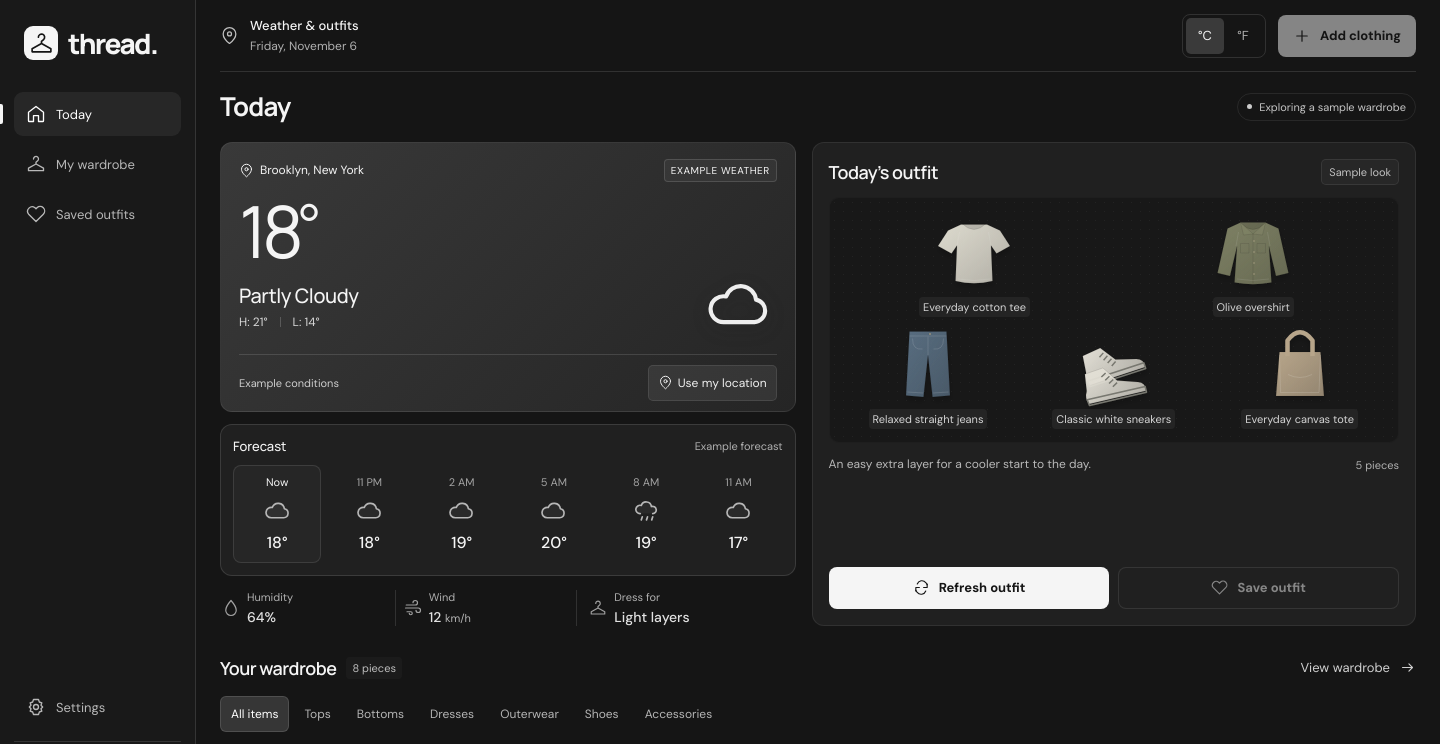
shows explicit samples, keeps navigation usable, and filters wardrobe categories
Expected: the text "Exploring a sample wardrobe" is shown, [1237,93,1416,121]
Click the button "My wardrobe" at (98, 164), box [14,142,181,186]
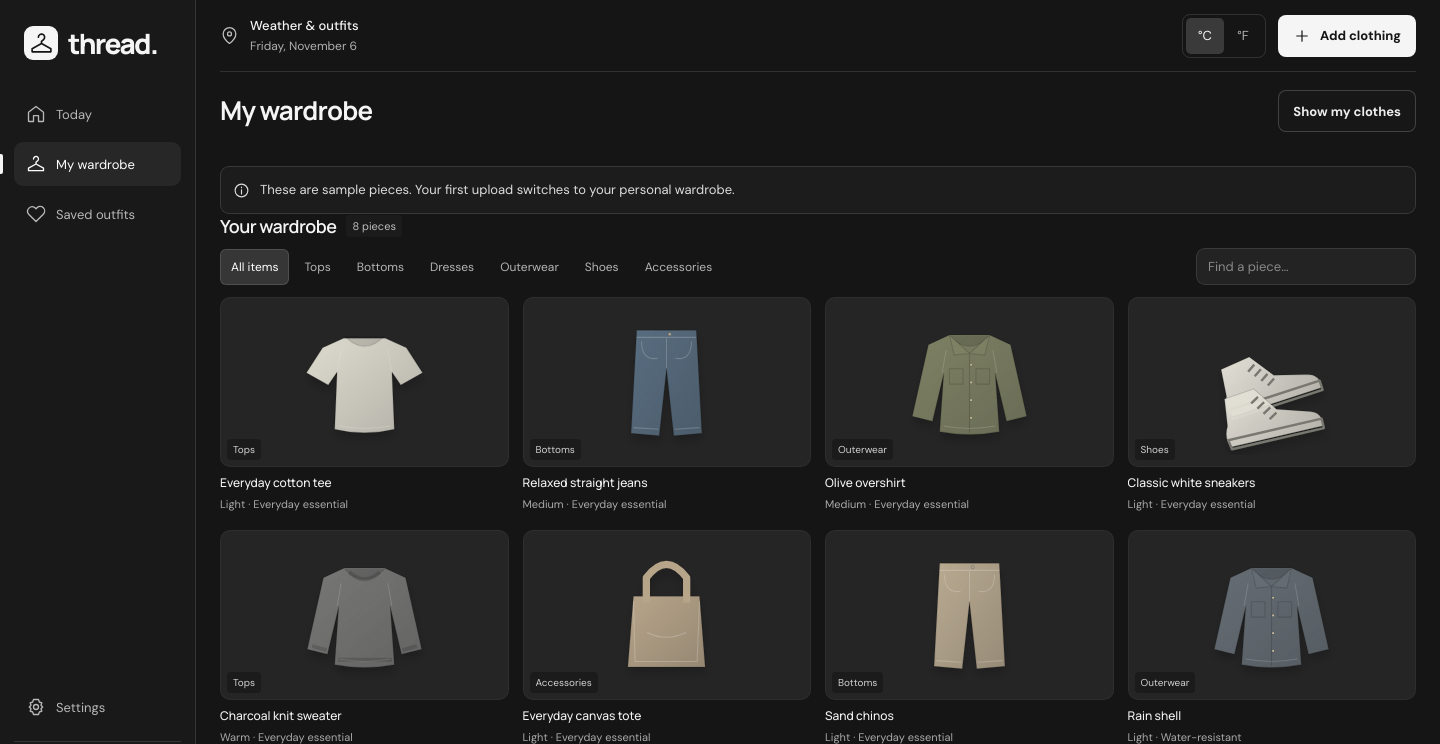
Expected: the text "These are sample pieces" is shown, [260,181,735,198]
Click the button "Shoes" at (602, 267), box [574,249,630,285]
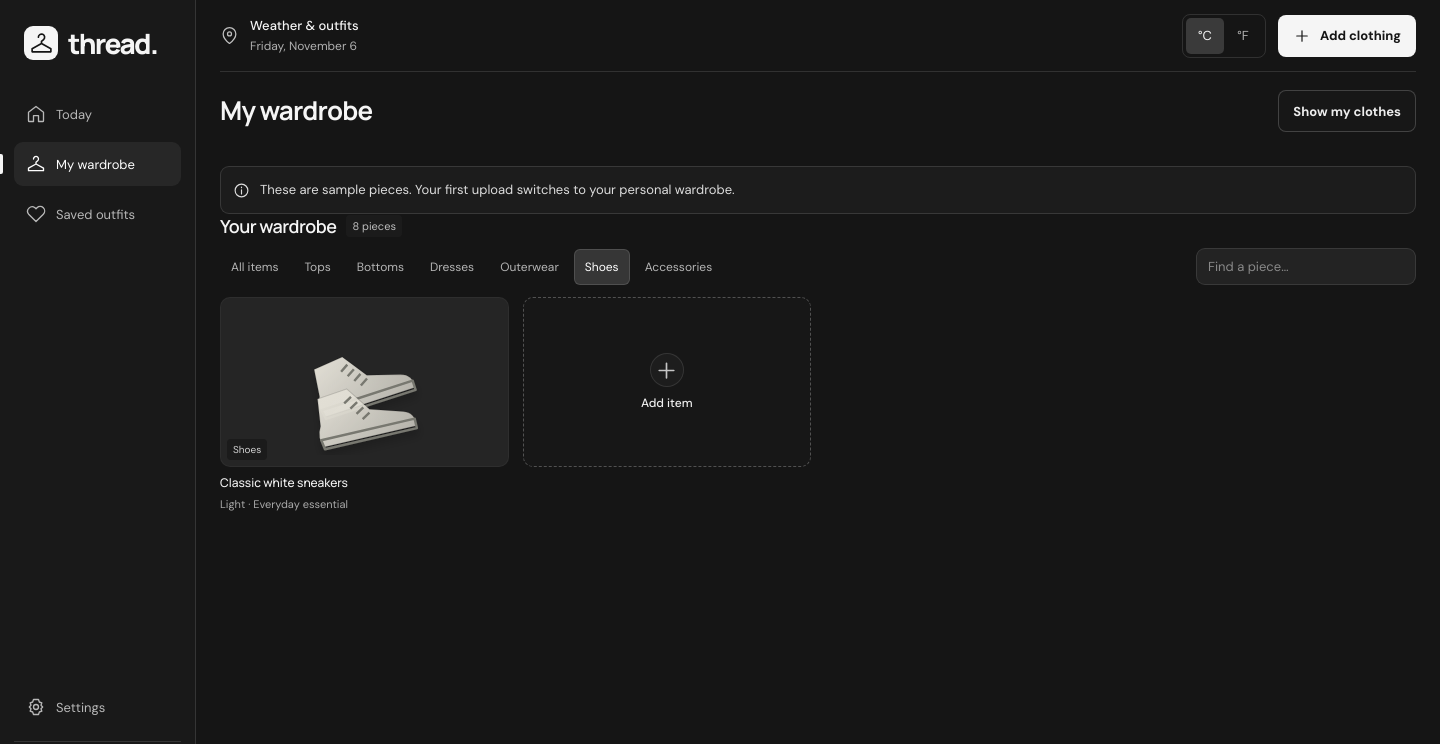
Expected: the heading "Classic white sneakers" is shown, [220,474,348,491]
Expected: the heading "Olive overshirt" is gone
Click the button "Show my clothes" at (1347, 111), box [1278,90,1416,132]
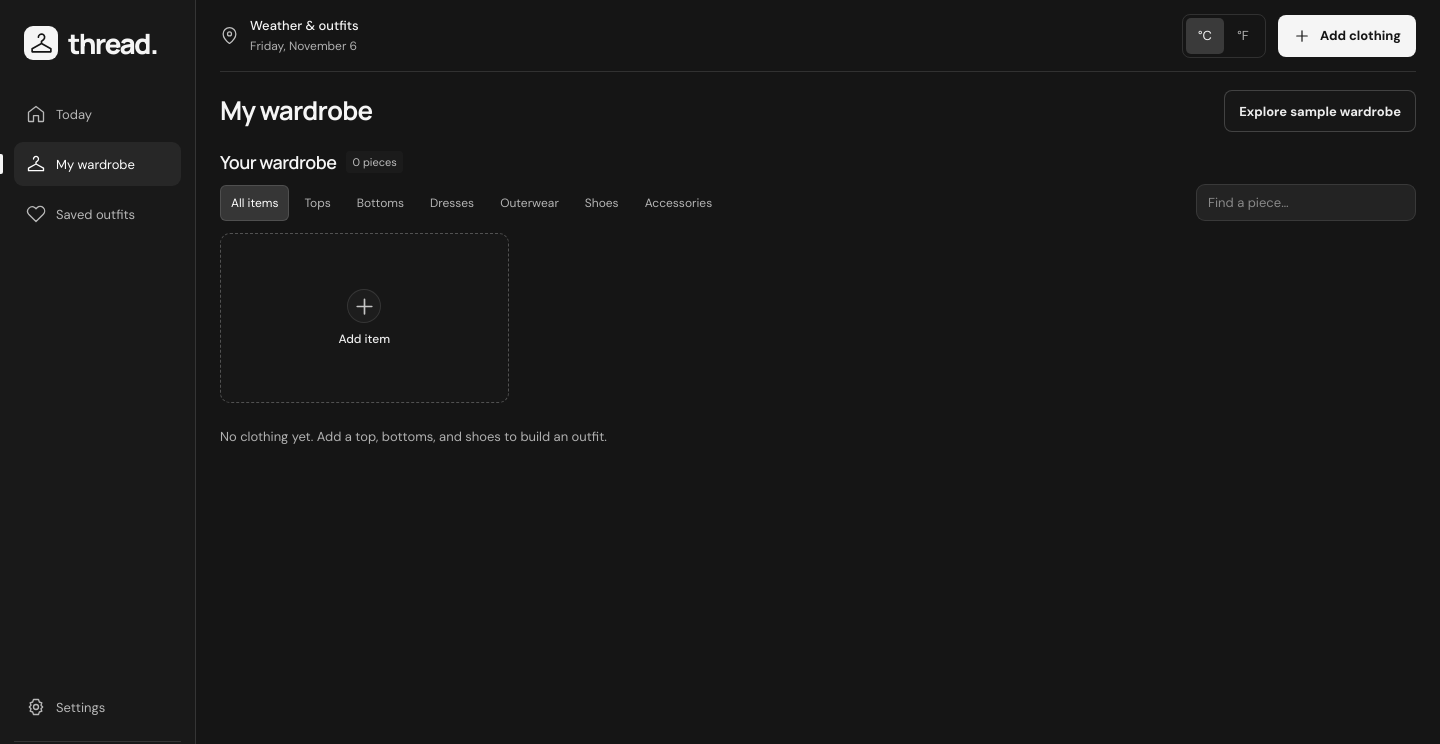
Expected: the text "No clothing yet. Add a top" is shown, [220,428,607,445]
